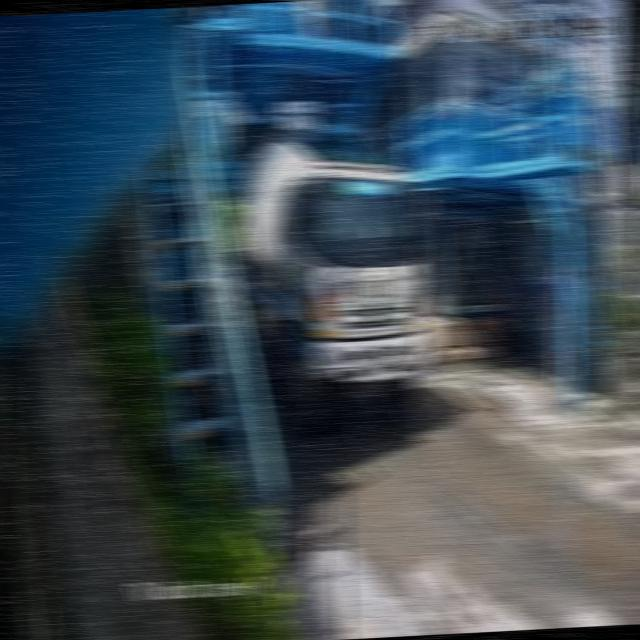cement_mixer_truck: (228, 140, 433, 431)
